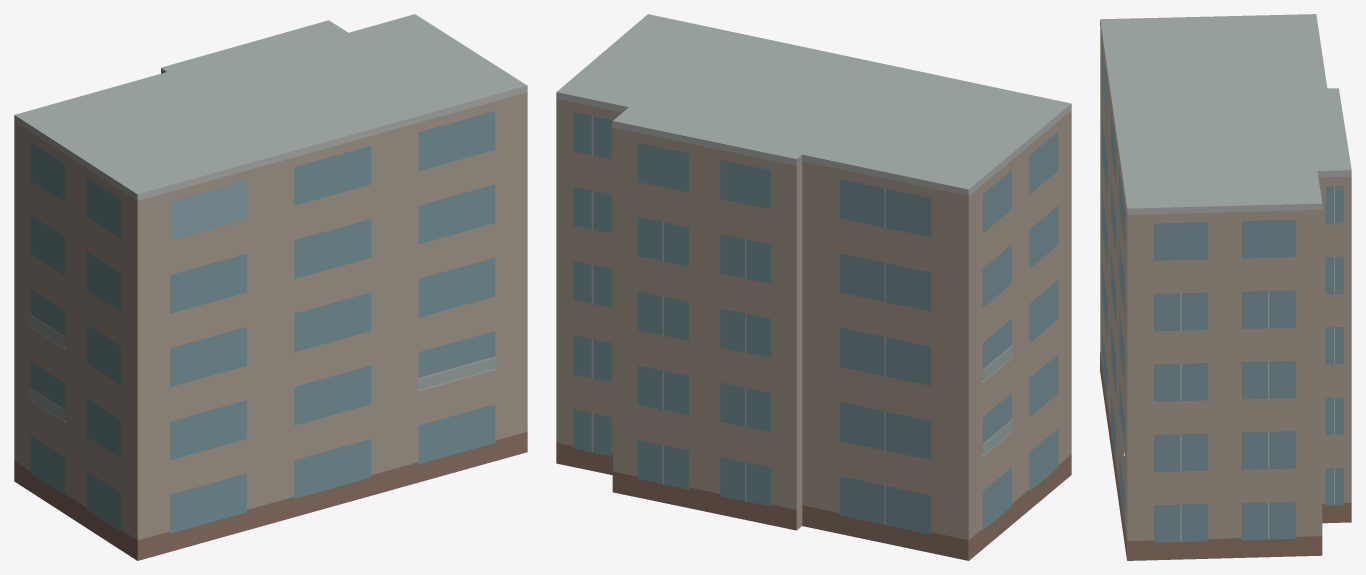
The model's file is survey-upis-32707959.glb.
3 renders of one model, left to right at view 1: azimuth 30°, elevation 25°; view 2: azimuth 150°, elevation 25°; view 3: azimuth 270°, elevation 25°, orthographic. The views are drawn at different scales.
Parts seen in each view (by area): view 1: survey-upis-32707959.tmp; view 2: survey-upis-32707959.tmp; view 3: survey-upis-32707959.tmp.
Boxes of the visible parts, x1,y1,x2,y2 form: survey-upis-32707959.tmp: [14, 14, 527, 560]; survey-upis-32707959.tmp: [556, 14, 1071, 560]; survey-upis-32707959.tmp: [1100, 14, 1351, 560].
Size of the model in its own units: 16.13 by 13.6 by 8.81.
